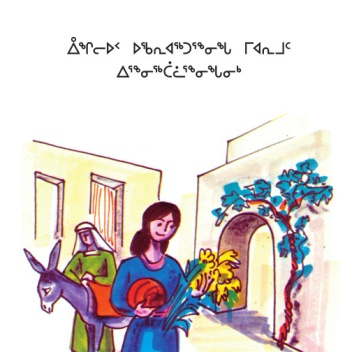inuktitut: (65, 33, 292, 58), (112, 58, 243, 82)
